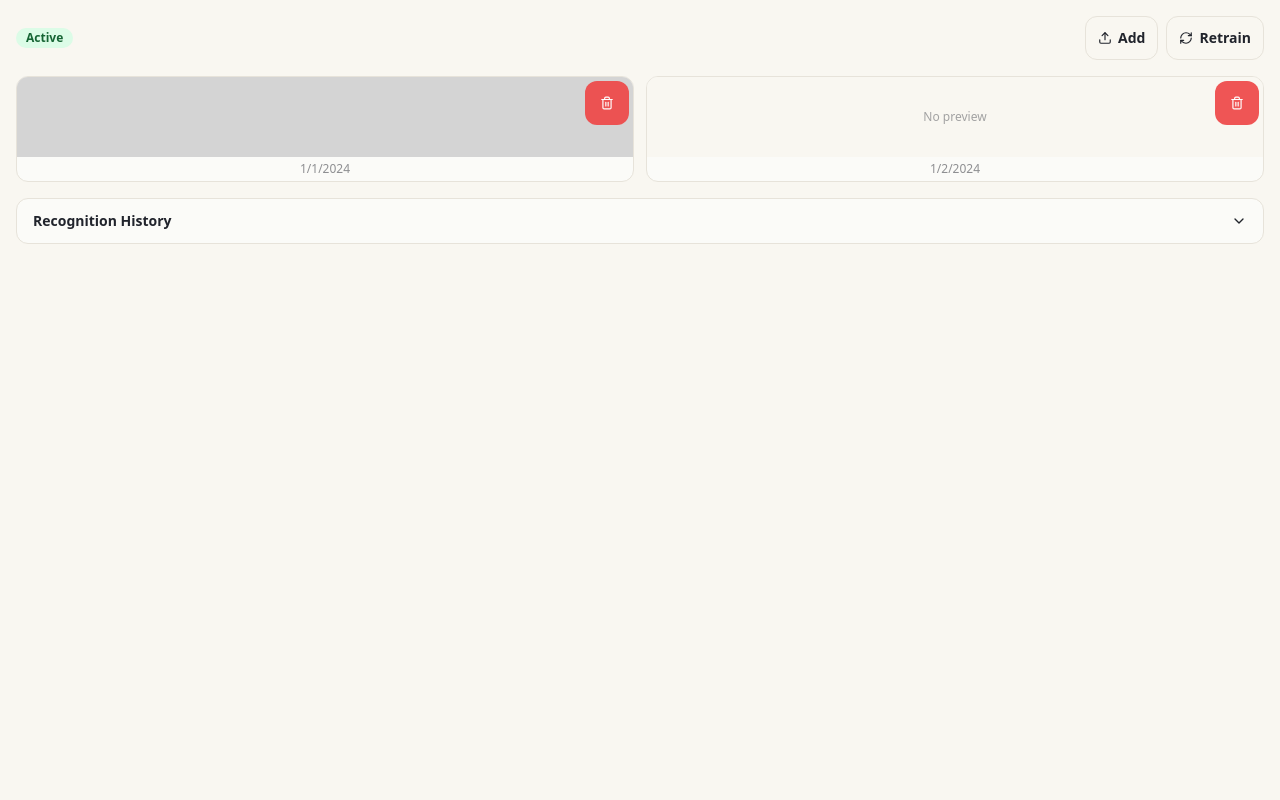
Test: AC3 — Remove sample flow › clicking Remove on a tile opens ConfirmDialog
Check: the text "Active" is shown, box [16,28,73,48]
Click the 1st button named "Remove sample" at (607, 103), box [585,81,629,125]
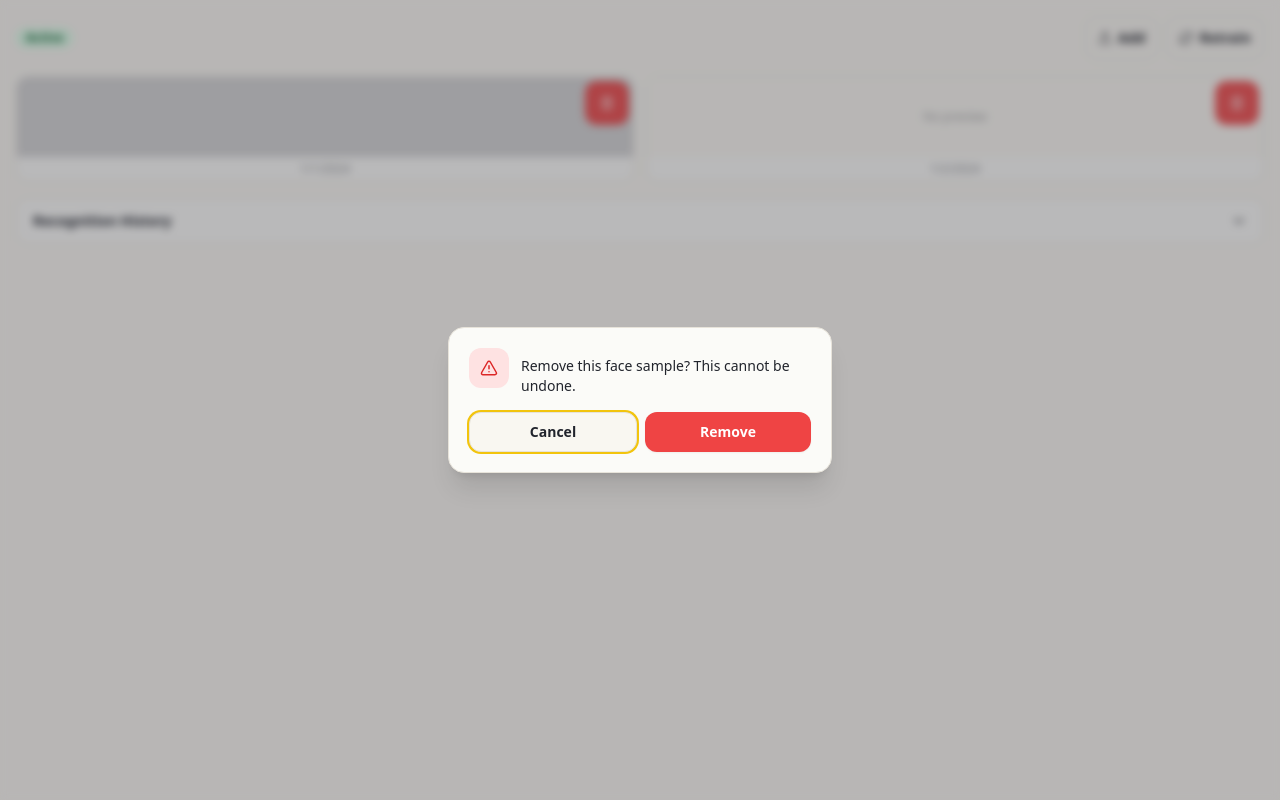
Check: the dialog "Remove this face sample" is shown, box [448,327,832,473]
Check: the text "Remove this face sample? This cannot be undone." is shown, box [521,356,811,396]
